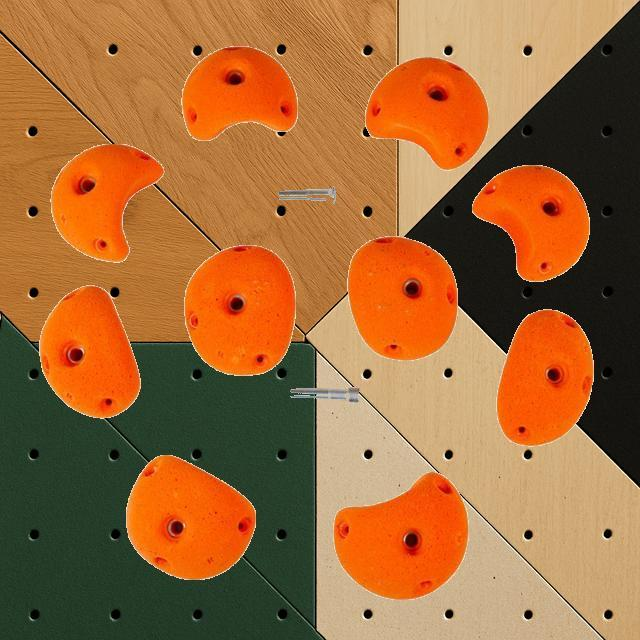Jug: (333, 470, 469, 600), (126, 454, 256, 580), (184, 244, 296, 376), (365, 56, 489, 170), (471, 165, 589, 282), (50, 142, 164, 262), (347, 236, 457, 360), (39, 284, 140, 418), (496, 309, 594, 445), (181, 45, 297, 141)
